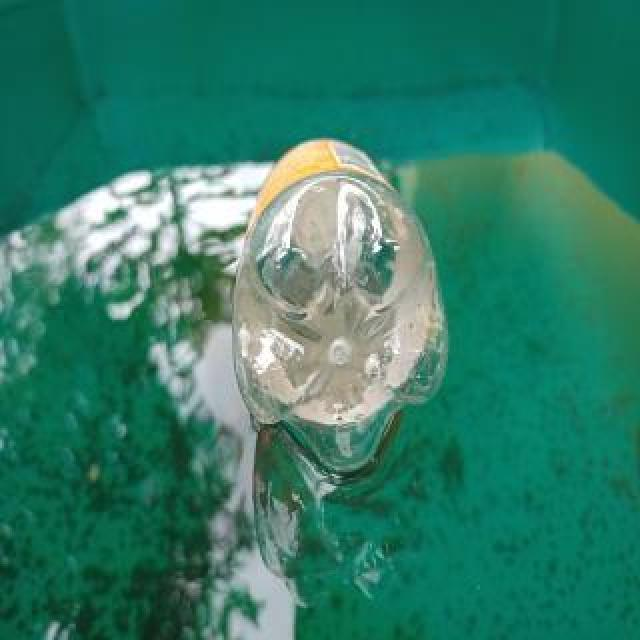bottle: (231, 135, 453, 477)
